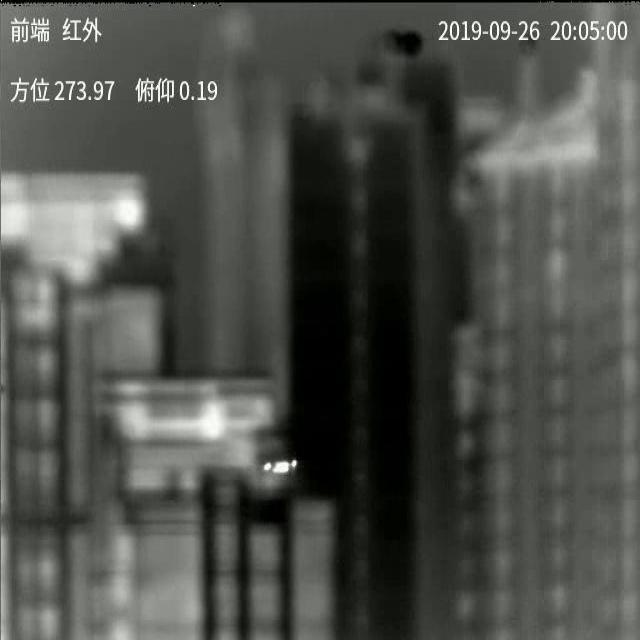drone: (263, 459, 299, 475)
